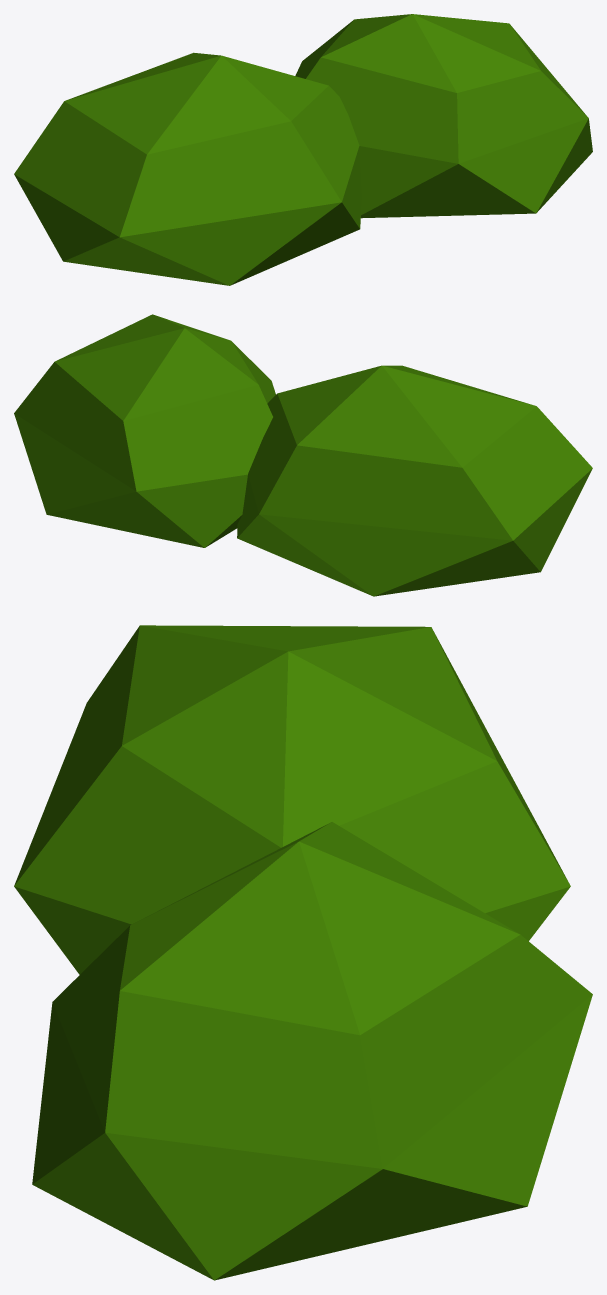
The model's file is T_Bush3.fbx.
3 renders of one model, top to bottom at view 1: azimuth 30°, elevation 25°; view 2: azimuth 150°, elevation 25°; view 3: azimuth 270°, elevation 25°, orthographic. The views are drawn at different scales.
Visible parts, largest first — view 1: Icosphere; view 2: Icosphere; view 3: Icosphere.
Boxes of the visible parts, x1,y1,x2,y2 form: Icosphere: [14, 14, 592, 285]; Icosphere: [14, 314, 592, 596]; Icosphere: [14, 625, 592, 1280].
Size of the model in its own units: 3.76 by 1.16 by 1.95.
